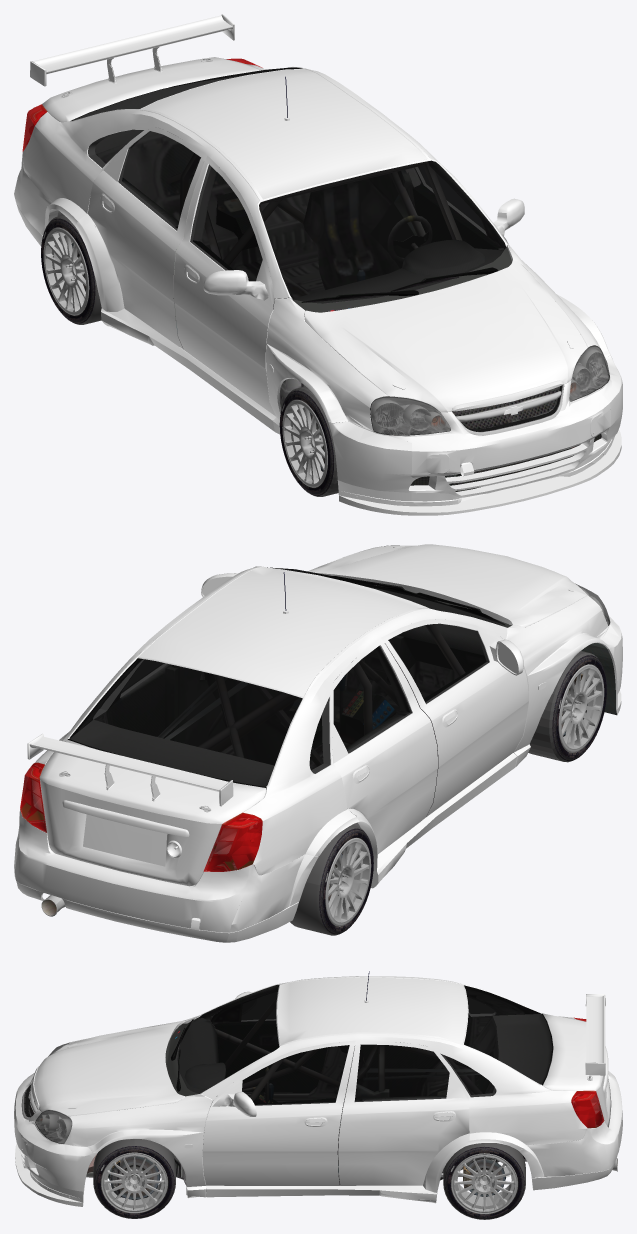
Rendered from lacetti-v1.glb.
3 views of the same model, one above another, from view 1: azimuth 30°, elevation 25°; view 2: azimuth 150°, elevation 25°; view 3: azimuth 270°, elevation 25° (orthographic). The views are drawn at different scales.
Visible parts, largest first — view 1: obj116_Material6, obj141_Material 585, obj134_Material6, obj136_Material4, obj109_Material6, obj90_Material6, obj100_Material6, obj104_Material6, obj89_Material4, obj169_Material4, obj165_Material6, obj85_Material6 (+22 smaller); view 2: obj116_Material6, obj137_Material4, obj141_Material 585, obj165_Material6, obj138_Material6, obj134_Material6, obj90_Material6, obj100_Material6, obj89_Material4, obj140_Material 593, obj169_Material4, obj135_Material6 (+17 smaller); view 3: obj116_Material6, obj94_Material6, obj134_Material6, obj141_Material 585, obj136_Material4, obj102_Material6, obj93_Material4, obj137_Material4, obj117_Material 585, obj173_Material4, obj91_Material 585, obj165_Material6 (+21 smaller).
Part boxes in pixels (x1,y1,x2,y2): obj116_Material6: (22,64,507,431); obj141_Material 585: (96,134,503,302); obj134_Material6: (304,260,587,412); obj136_Material4: (259,160,506,303); obj109_Material6: (377,380,610,515); obj90_Material6: (174,156,275,416); obj100_Material6: (266,298,388,434); obj104_Material6: (328,421,426,515); obj89_Material4: (88,129,200,230); obj169_Material4: (190,164,262,281); obj165_Material6: (42,57,261,122); obj85_Material6: (30,14,234,86); obj116_Material6: (35,566,517,888); obj137_Material4: (69,658,302,786); obj141_Material 585: (158,588,499,769); obj165_Material6: (39,739,266,886); obj138_Material6: (15,808,250,942); obj134_Material6: (308,544,587,627); obj90_Material6: (381,619,528,816); obj100_Material6: (506,595,610,767); obj89_Material4: (309,646,411,773); obj140_Material 593: (67,720,273,788); obj169_Material4: (388,623,489,703); obj135_Material6: (226,854,318,942); obj116_Material6: (200,976,587,1203); obj94_Material6: (202,1040,355,1185); obj134_Material6: (31,1021,185,1116); obj141_Material 585: (178,998,498,1103); obj136_Material4: (177,985,279,1093); obj102_Material6: (64,1093,212,1198); obj93_Material4: (354,1044,496,1101); obj137_Material4: (464,985,552,1084); obj117_Material 585: (200,985,540,1181); obj173_Material4: (242,1045,349,1105); obj91_Material 585: (211,998,326,1092); obj165_Material6: (543,1013,611,1127).
Size of the model in its own units: 2.02 by 1.62 by 4.48.
Materials: 17 (9 with a texture image).
